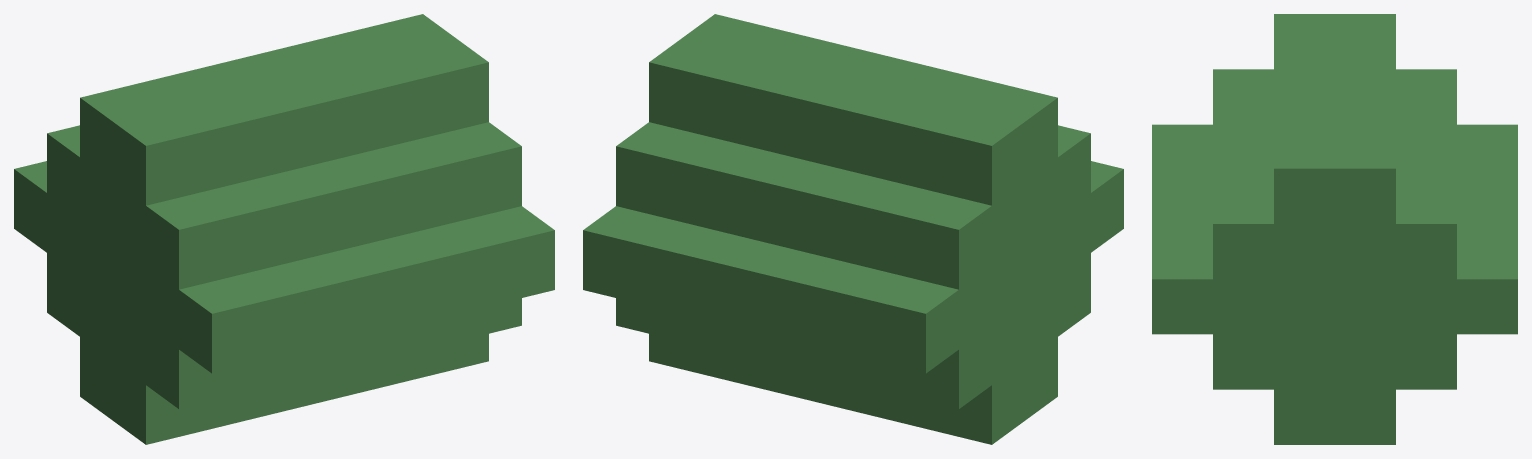
File: Snake01-Body.gltf
3 views of the same model, side by side, from view 1: azimuth 30°, elevation 25°; view 2: azimuth 150°, elevation 25°; view 3: azimuth 270°, elevation 25° (orthographic). The views are drawn at different scales.
Bounding box in the file's own units: 6 × 5 × 6.
